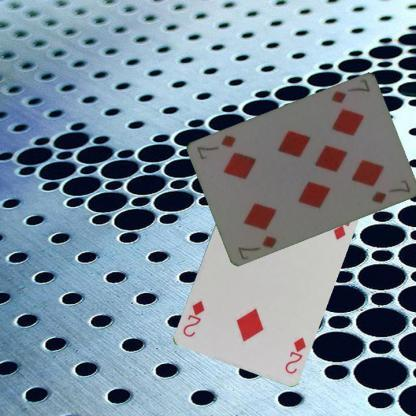2d: (282, 334, 308, 375)
7d: (235, 232, 279, 261), (328, 76, 372, 104)
